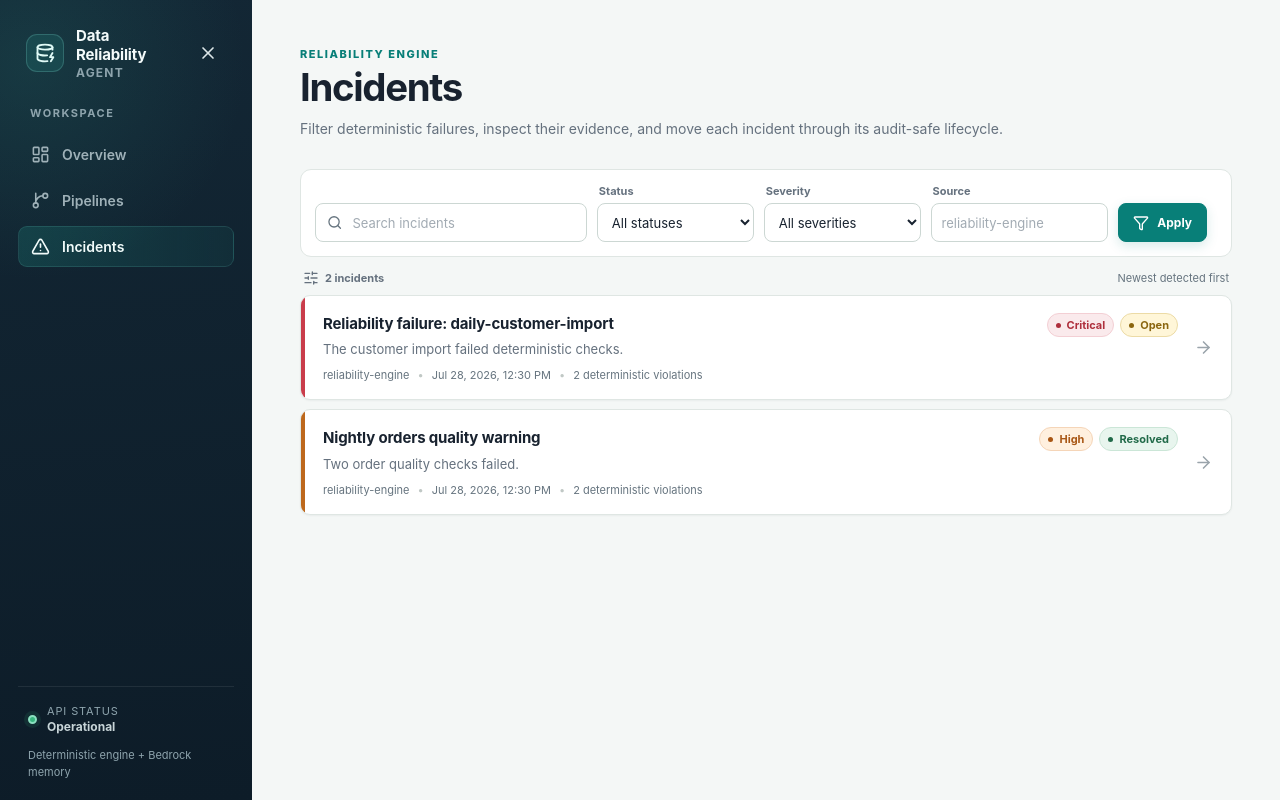
Test: incident-to-diagnosis workflow › filters the incident list by search text
expect the heading "Reliability failure: daily-customer-import" is shown: met, box x1=323 y1=314 x2=614 y2=334
expect the heading "Nightly orders quality warning" is shown: met, box x1=323 y1=428 x2=540 y2=449
In the field labelled "Search incidents": {"x": 463, "y": 223} x1=350 y1=214 x2=575 y2=232, type "orders"
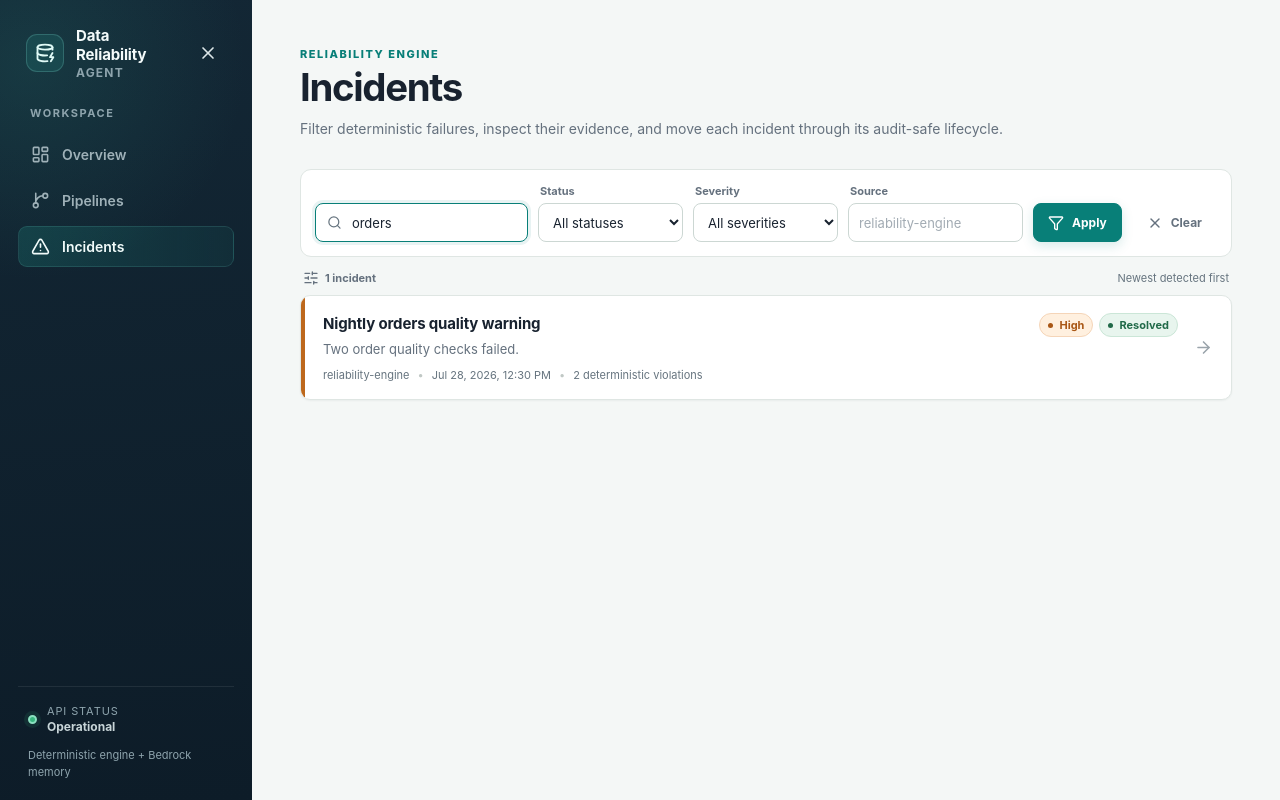
expect the heading "Nightly orders quality warning" is shown: met, box x1=323 y1=314 x2=540 y2=334
expect the link "Reliability failure: daily-customer-import" is gone: met
